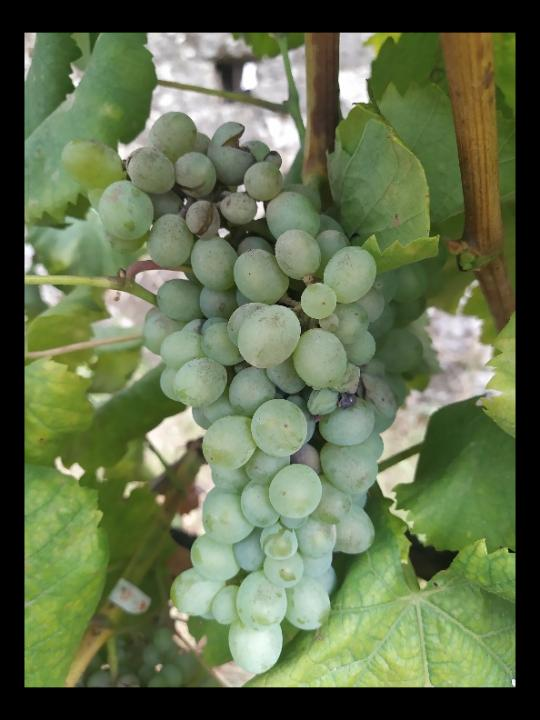grape: (58, 109, 426, 677)
